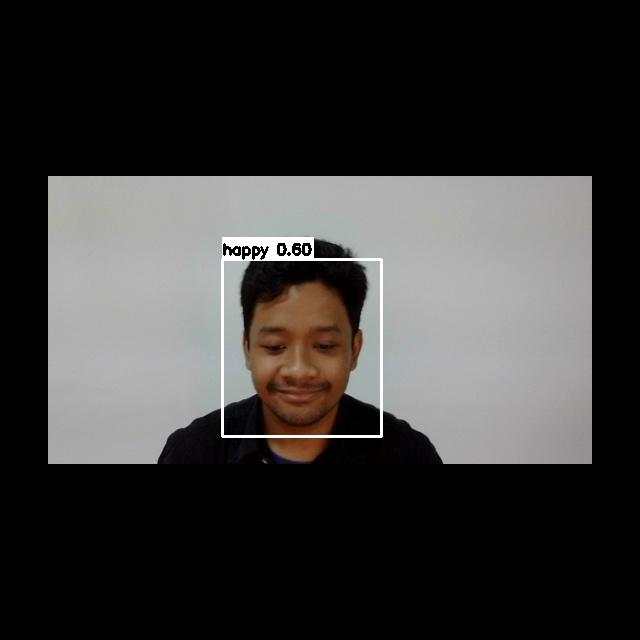Happy: (242, 309, 354, 419)
